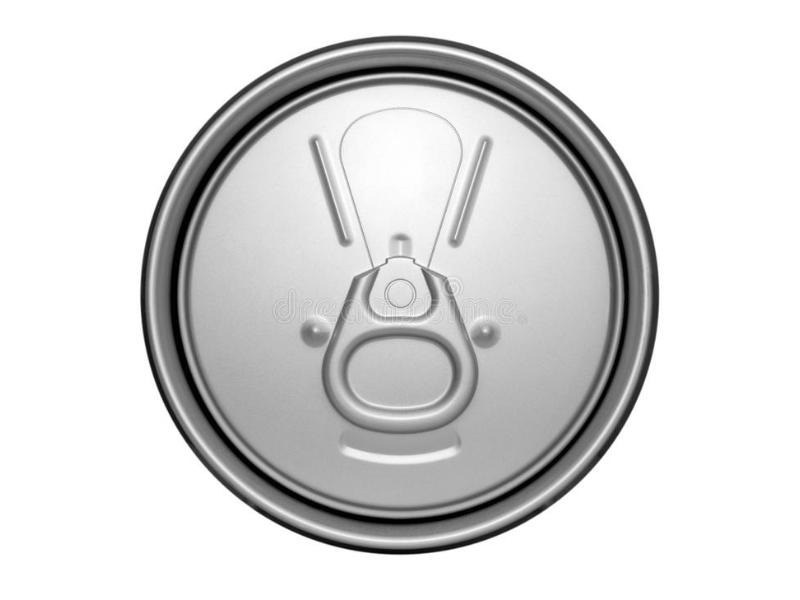can: (128, 29, 671, 560)
